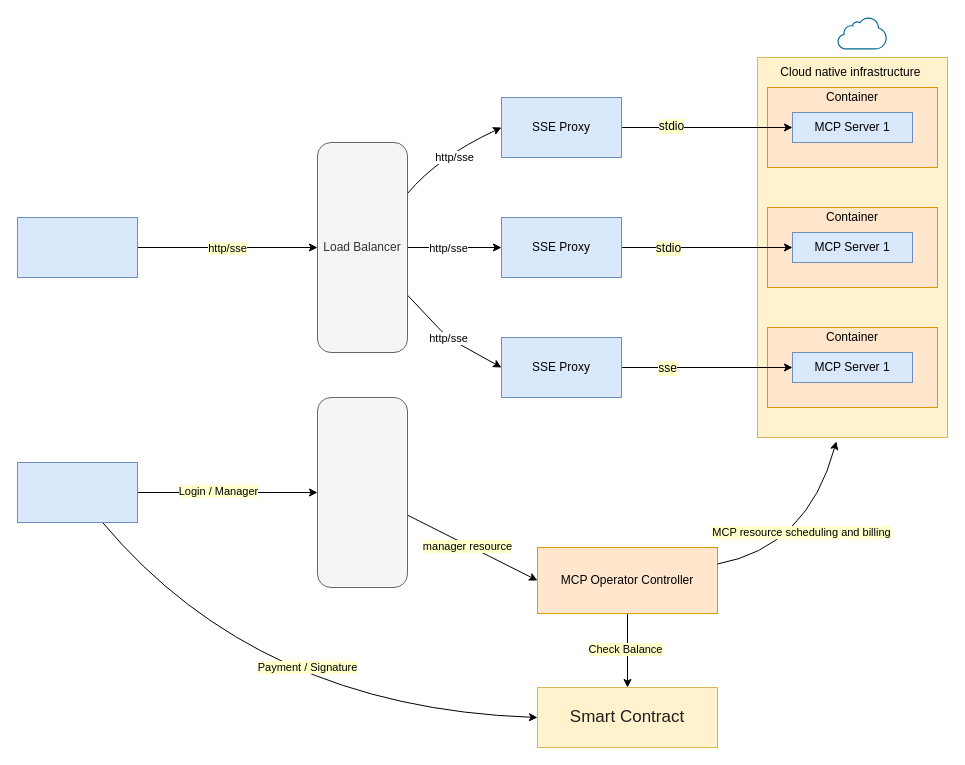
This 965x765 diagram has some shape labels left out. The shapes that lost their labels are listed below. From the top down, each one's box as (x1, y1, x2, y2) in pixels, then its label:
(16, 216, 138, 278): MCP Client
(16, 462, 138, 522): Web
(316, 396, 408, 588): Backend
